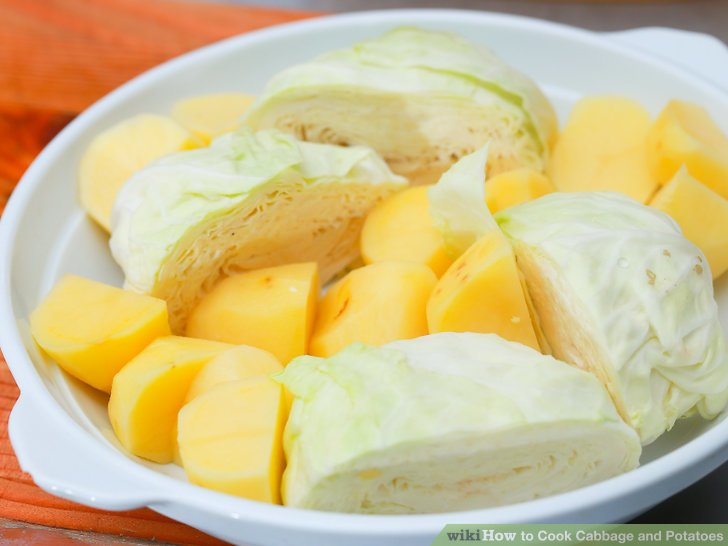boiled potatoes: (107, 324, 217, 461), (40, 270, 167, 373), (174, 370, 287, 483), (312, 256, 433, 354), (433, 241, 539, 344), (195, 261, 312, 350), (656, 110, 726, 257), (558, 91, 649, 202), (85, 113, 172, 211), (369, 191, 446, 268)
chopped lettuce: (320, 353, 620, 518), (531, 210, 719, 408), (269, 45, 552, 176), (140, 165, 363, 279)
